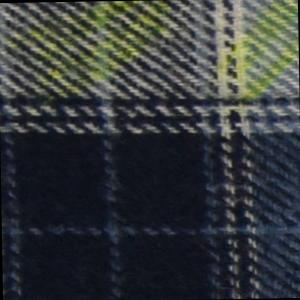Stain: (5, 1, 174, 103), (207, 1, 300, 116)
